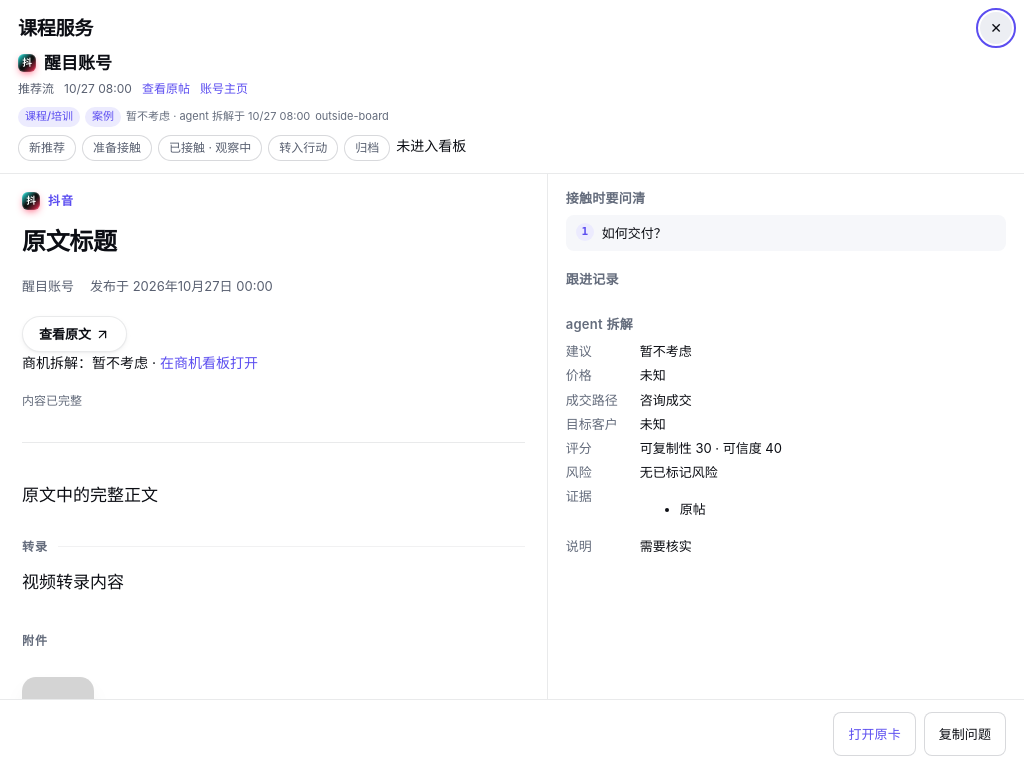
Test: 深链接直接打开阶段 null，展示原文和账号，关闭清除参数
The image size is (1024, 768).
Expected: the text "原文中的完整正文" is shown, [22,485,158,505]
Expected: the text "视频转录内容" is shown, [22,572,124,592]
Click the button named "关闭" at (996,28), box [980,12,1012,44]
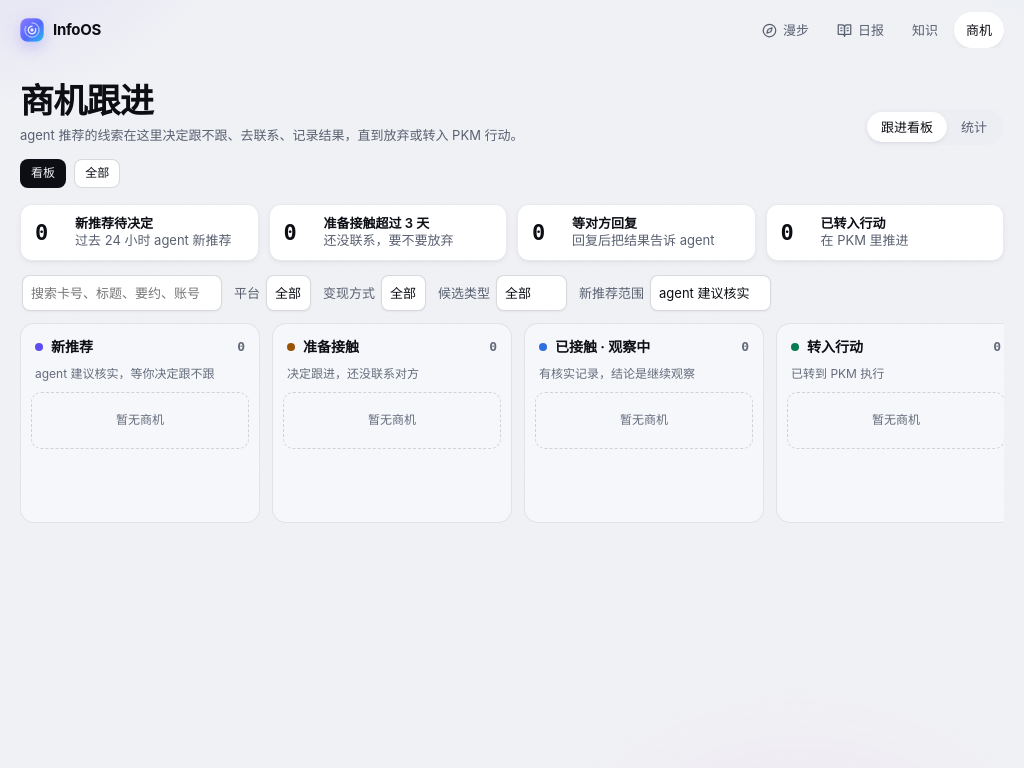
Result: the dialog is gone
